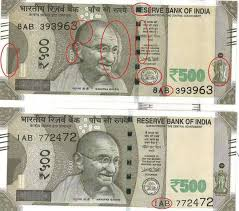fiveHundred: (13, 129, 224, 200), (13, 13, 216, 86)
